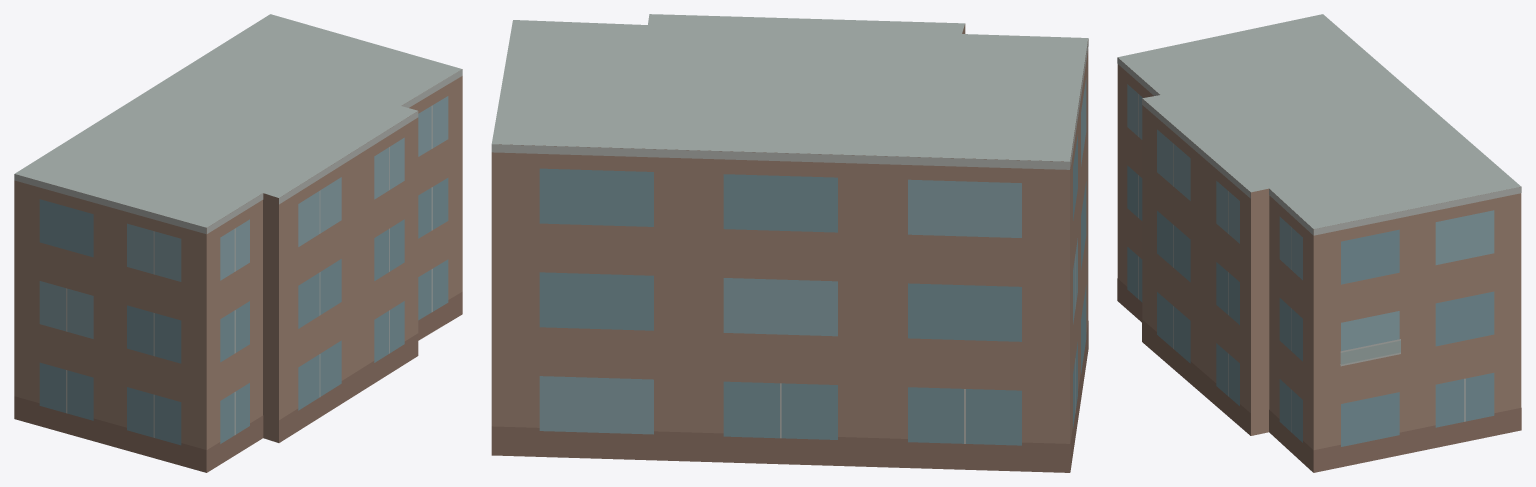
Rendered from survey-upis-32705587.glb.
3 renders of one model, left to right at view 1: azimuth 30°, elevation 25°; view 2: azimuth 150°, elevation 25°; view 3: azimuth 270°, elevation 25°, orthographic. The views are drawn at different scales.
Parts seen in each view (by area): view 1: survey-upis-32705587.tmp; view 2: survey-upis-32705587.tmp; view 3: survey-upis-32705587.tmp.
Boxes of the visible parts, <box> form: survey-upis-32705587.tmp: <box>14,14,462,472</box>; survey-upis-32705587.tmp: <box>491,14,1088,472</box>; survey-upis-32705587.tmp: <box>1117,14,1521,472</box>.
Bounding box in the file's own units: 17.34 × 9.15 × 13.76.
